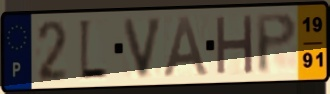2: (34, 19, 69, 84)
A: (161, 15, 212, 80)
H: (214, 12, 256, 78)
L: (77, 17, 109, 84)
P: (254, 11, 300, 77)
V: (121, 15, 166, 81)
